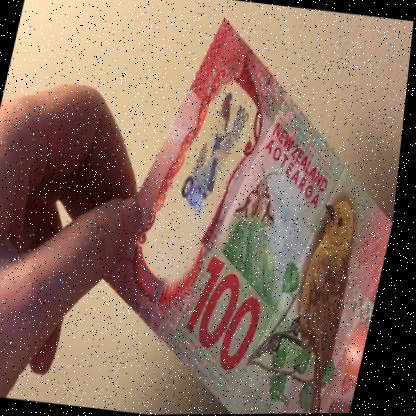100B: (179, 81, 261, 224)
